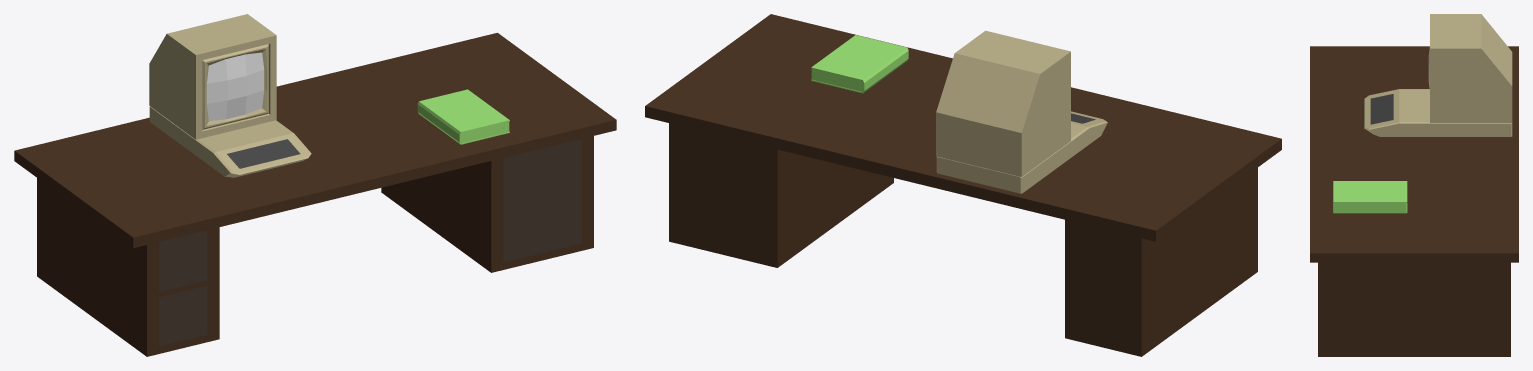
File: Desk.fbx
3 renders of one model, left to right at view 1: azimuth 30°, elevation 25°; view 2: azimuth 150°, elevation 25°; view 3: azimuth 270°, elevation 25°, orthographic. The views are drawn at different scales.
Visible parts, largest first — view 1: Cube.003, Cube, Cube.002, Cube.001, Cube.004; view 2: Cube.003, Cube, Cube.004, Cube.002; view 3: Cube.003, Cube, Cube.002, Cube.004.
Part boxes in pixels (left/top/right/bottom): Cube.003: left=14, top=32, right=616, bottom=356; Cube: left=149, top=14, right=276, bottom=139; Cube.002: left=149, top=106, right=311, bottom=177; Cube.001: left=206, top=52, right=264, bottom=121; Cube.004: left=417, top=89, right=509, bottom=144; Cube.003: left=645, top=14, right=1281, bottom=356; Cube: left=936, top=30, right=1070, bottom=176; Cube.004: left=811, top=35, right=908, bottom=93; Cube.002: left=936, top=111, right=1107, bottom=193; Cube.003: left=1310, top=46, right=1518, bottom=356; Cube: left=1430, top=14, right=1512, bottom=122; Cube.002: left=1364, top=89, right=1512, bottom=136; Cube.004: left=1333, top=181, right=1407, bottom=213.
Size of the model in its own units: 1194 by 538 by 509.
